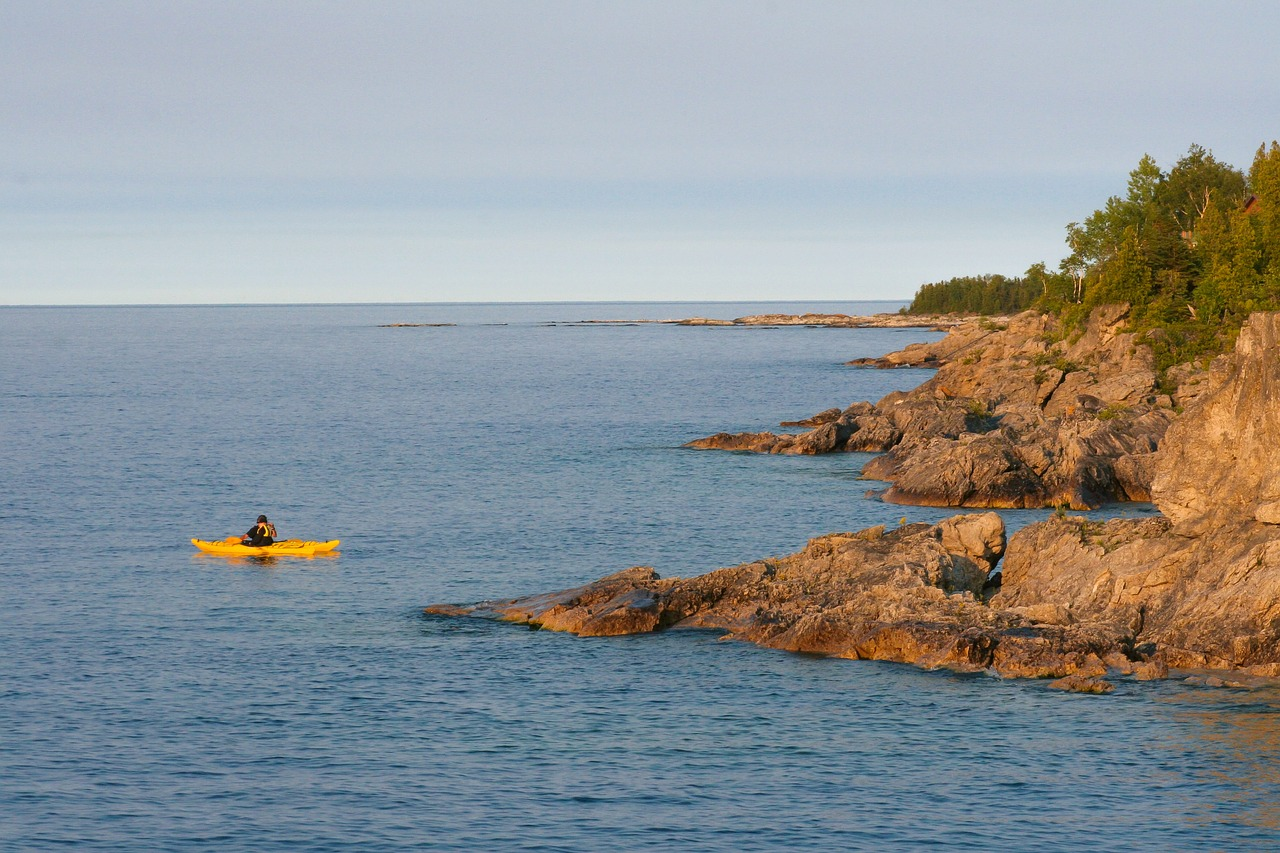kayak: (185, 537, 345, 556)
